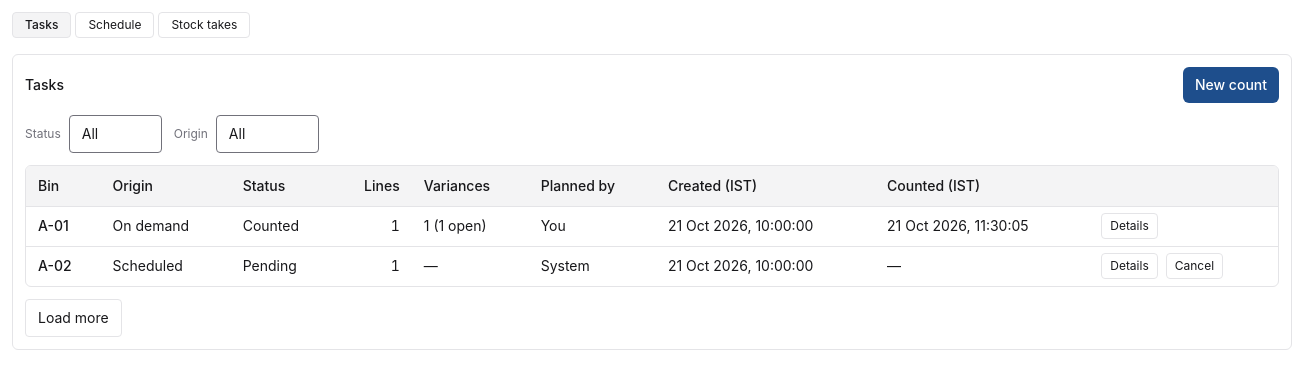
it: the Tasks tab › Load more appends the next keyset page
The width and height of the screenshot is (1292, 367).
Click the button "Load more" at {"x": 73, "y": 318}, box [25,299,122,337]
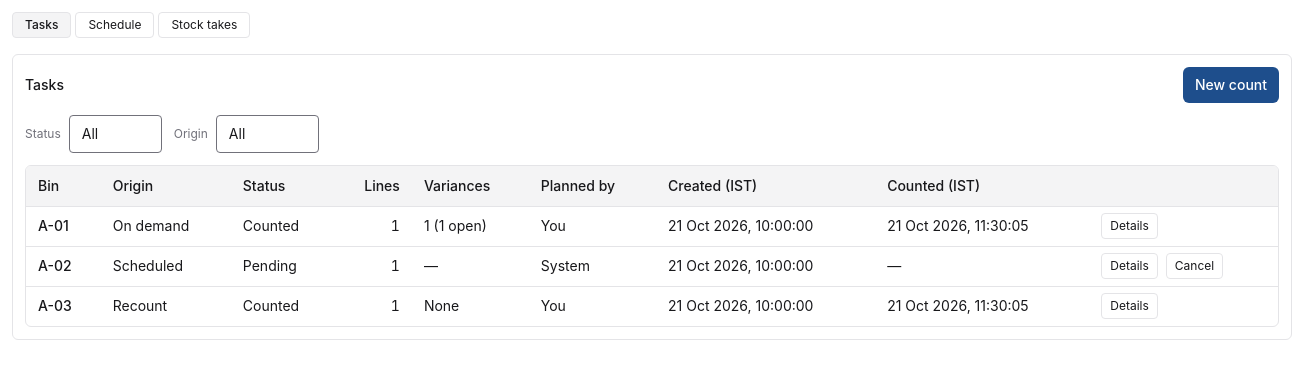
Expected: the row that starts with "A-01" is shown, [26,206,1278,246]
Result: the row that starts with "A-03" is shown at [26,286,1278,326]
